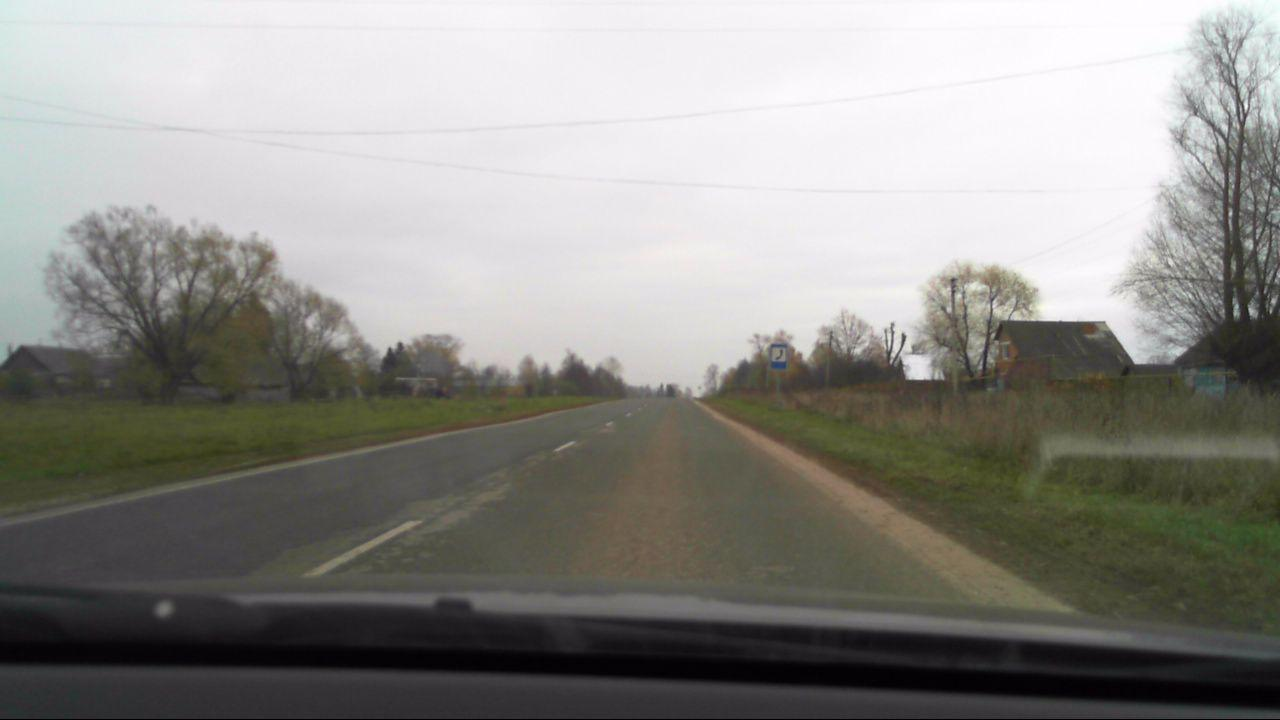7_6: (768, 343, 787, 371)
